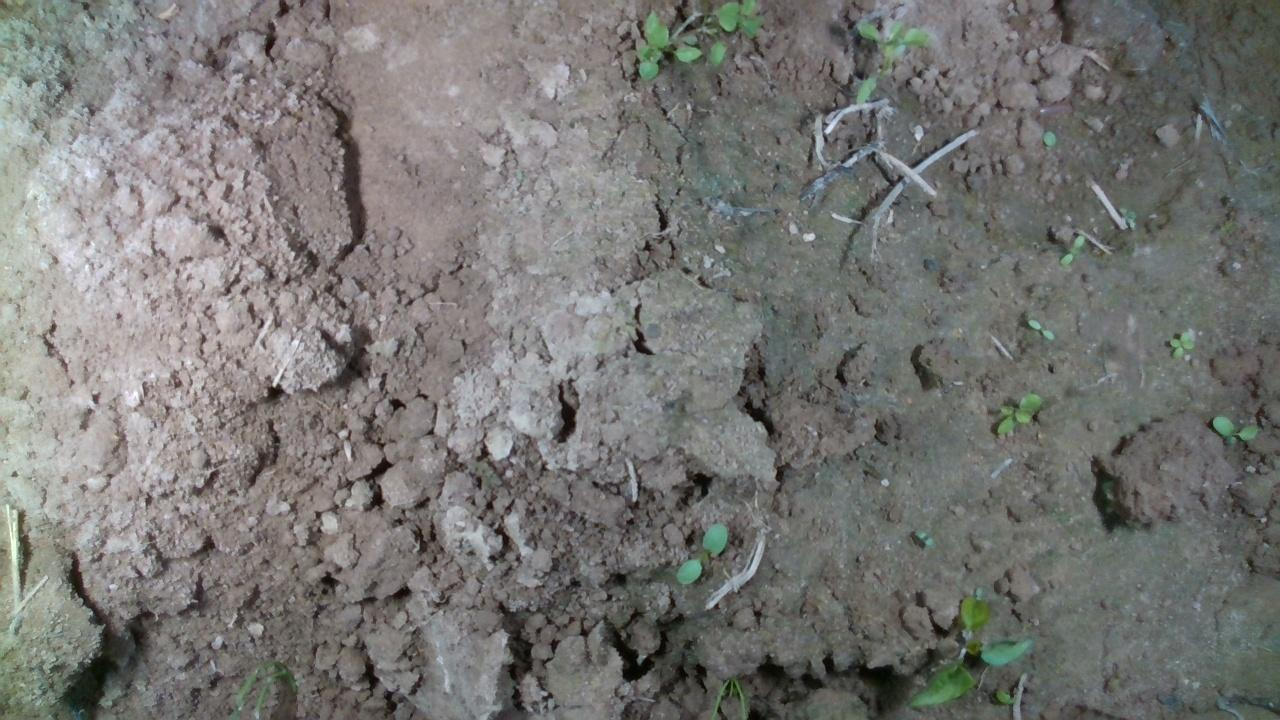weed: (906, 591, 1037, 709), (672, 519, 729, 585), (992, 392, 1042, 434), (1209, 412, 1260, 441), (1168, 330, 1196, 360), (1060, 232, 1084, 266), (1026, 317, 1055, 341), (1118, 205, 1137, 227)
